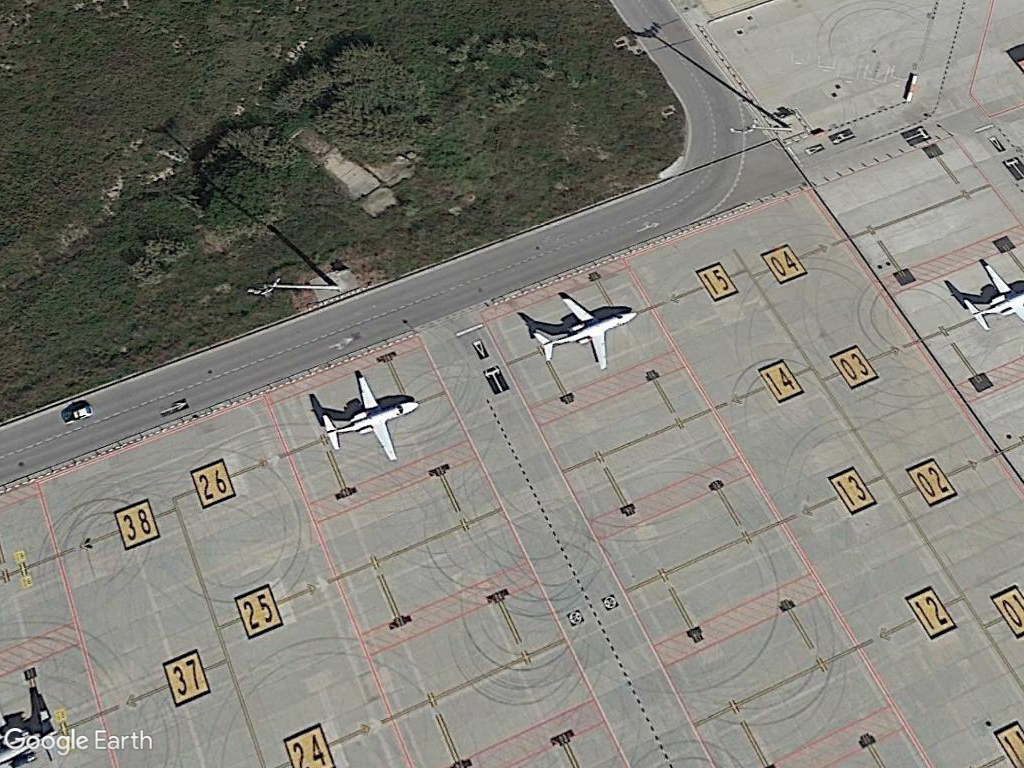chartered: (310, 374, 421, 463), (528, 294, 639, 375)
